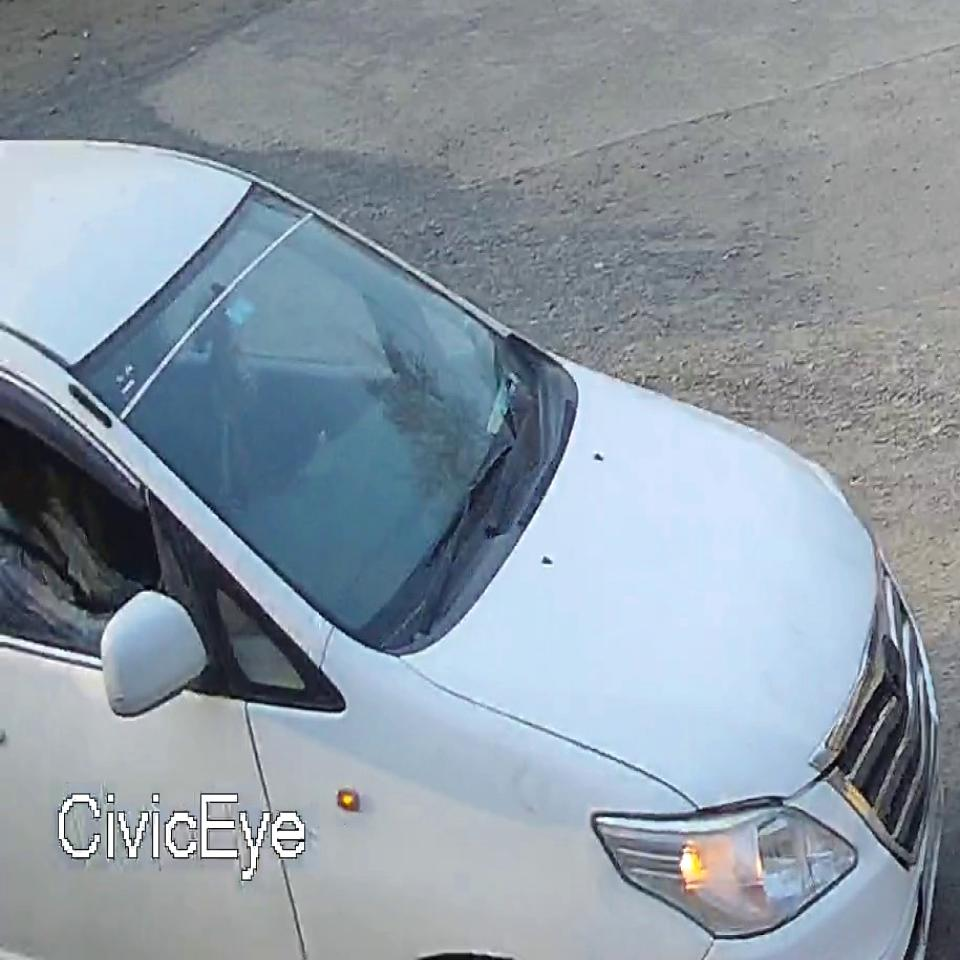head_light: (588, 799, 860, 941)
